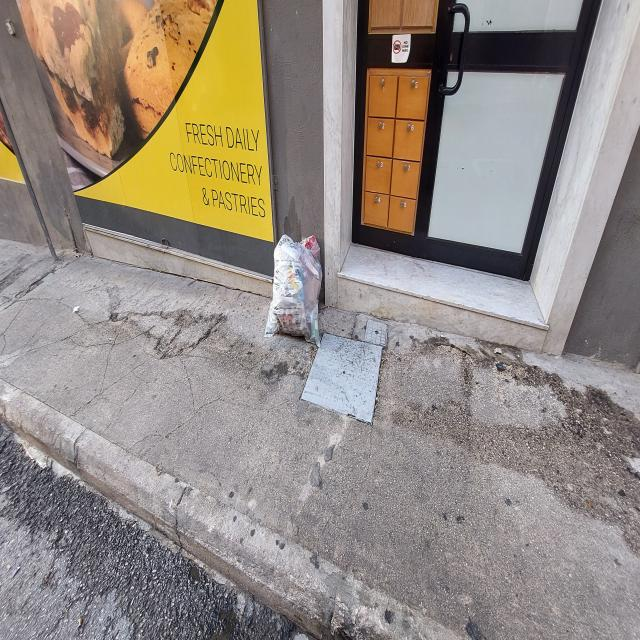Recycled Waste -Grey or Green Bag-: (266, 234, 324, 348)
